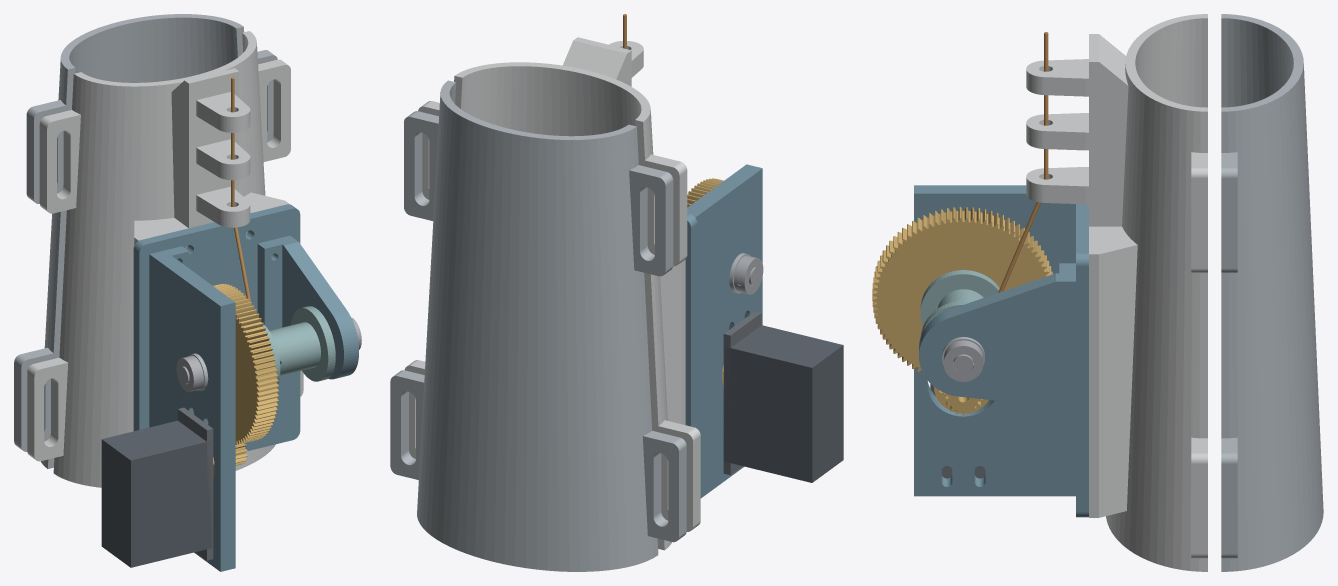
The model's file is assembly.glb.
3 views of the same model, side by side, from view 1: azimuth 30°, elevation 25°; view 2: azimuth 150°, elevation 25°; view 3: azimuth 270°, elevation 25° (orthographic). The views are drawn at different scales.
Visible parts, largest first — view 1: upper, lower, motorwall, servo_body, plate, supportwall, driven, spool, servo_flange, collar_left; view 2: lower, upper, servo_body, motorwall, plate, servo_flange, collar_left; view 3: upper, lower, motorwall, supportwall, driven, plate, spool, collar_right, pinion.
Part boxes in pixels (x1=…): upper: x1=27, y1=31, x2=303, y2=487; lower: x1=14, y1=14, x2=277, y2=468; motorwall: x1=149, y1=246, x2=235, y2=571; servo_body: x1=101, y1=420, x2=213, y2=567; plate: x1=133, y1=204, x2=300, y2=450; supportwall: x1=257, y1=235, x2=358, y2=379; driven: x1=213, y1=283, x2=278, y2=444; spool: x1=261, y1=306, x2=335, y2=384; servo_flange: x1=178, y1=407, x2=213, y2=560; collar_left: x1=176, y1=355, x2=203, y2=392; lower: x1=390, y1=80, x2=686, y2=571; upper: x1=404, y1=37, x2=700, y2=550; servo_body: x1=723, y1=325, x2=843, y2=482; motorwall: x1=687, y1=164, x2=762, y2=498; plate: x1=685, y1=213, x2=697, y2=428; servo_flange: x1=723, y1=311, x2=761, y2=475; collar_left: x1=734, y1=255, x2=763, y2=294; upper: x1=1026, y1=14, x2=1207, y2=571; lower: x1=1221, y1=14, x2=1323, y2=571; motorwall: x1=914, y1=185, x2=1075, y2=496; supportwall: x1=919, y1=263, x2=1075, y2=407; driven: x1=872, y1=207, x2=1052, y2=374; plate: x1=1076, y1=204, x2=1088, y2=517; spool: x1=920, y1=270, x2=999, y2=336; collar_right: x1=943, y1=340, x2=983, y2=381; pinion: x1=934, y1=387, x2=988, y2=415.
Size of the model in its own units: 114 by 165 by 137.
